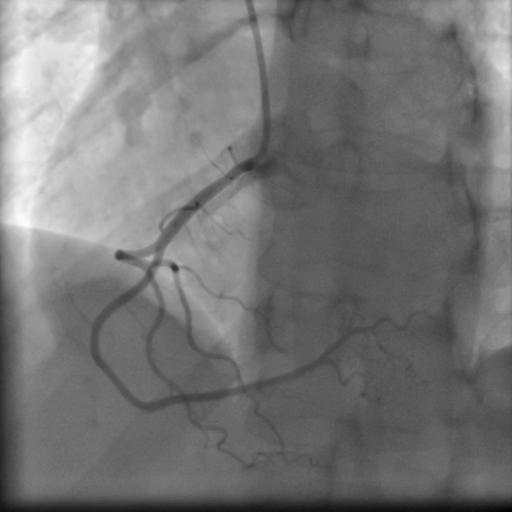Stenosis: (104, 358, 130, 400)
